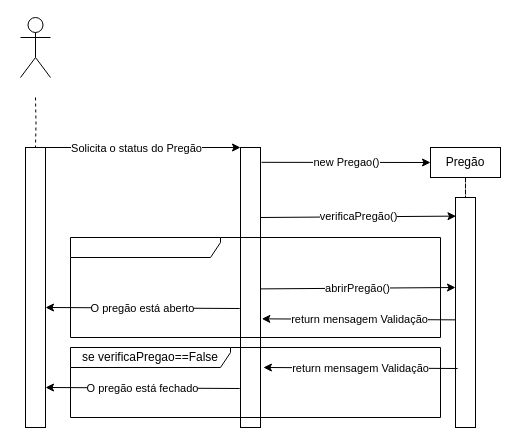
This 518x445 diagram has some shape labels left out. The shapes that lost their labels are listed below. From the top down, each one's centre as x and y in pixels, then its label:
pixel 35 47: Market
pixel 255 287: se verificaPregao==True
